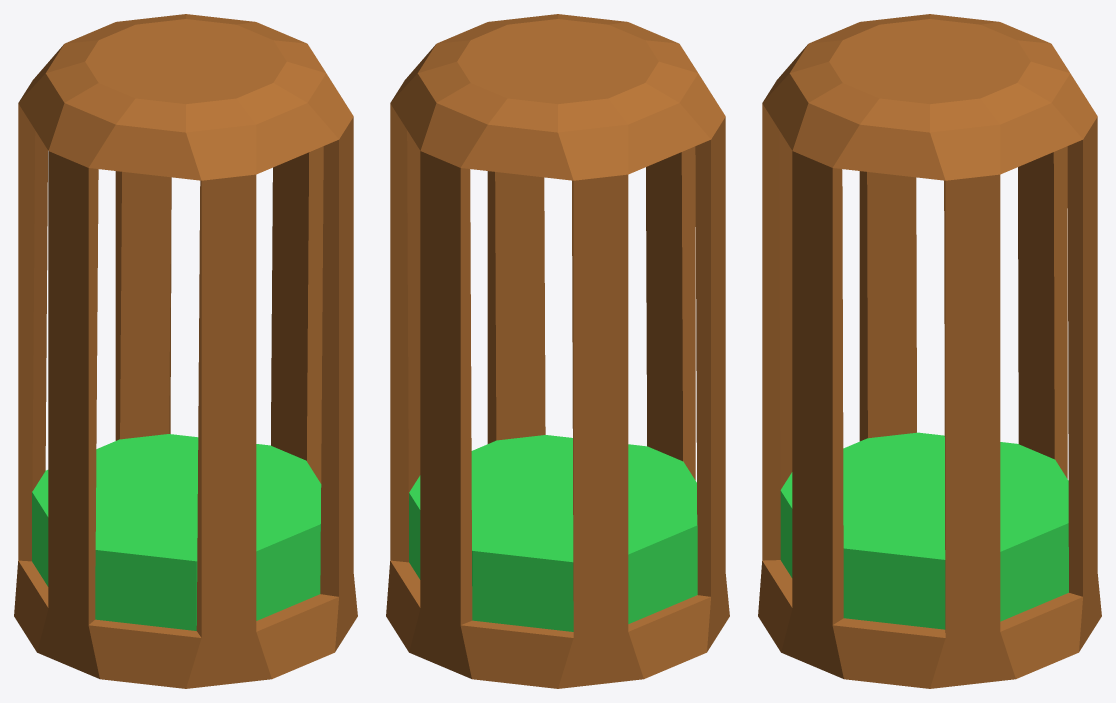
The model's file is decoVat3.glb.
3 renders of one model, left to right at view 1: azimuth 30°, elevation 25°; view 2: azimuth 150°, elevation 25°; view 3: azimuth 270°, elevation 25°, orthographic.
Visible parts, largest first — view 1: Cylinder, Cylinder.001; view 2: Cylinder, Cylinder.001; view 3: Cylinder, Cylinder.001.
Boxes of the visible parts, x1,y1,x2,y2 form: Cylinder: (14, 14, 357, 688); Cylinder.001: (32, 434, 321, 630); Cylinder: (386, 14, 729, 688); Cylinder.001: (409, 435, 697, 631); Cylinder: (758, 14, 1101, 688); Cylinder.001: (780, 432, 1068, 629).
Size of the model in its own units: 1.67 by 2.97 by 1.67.
